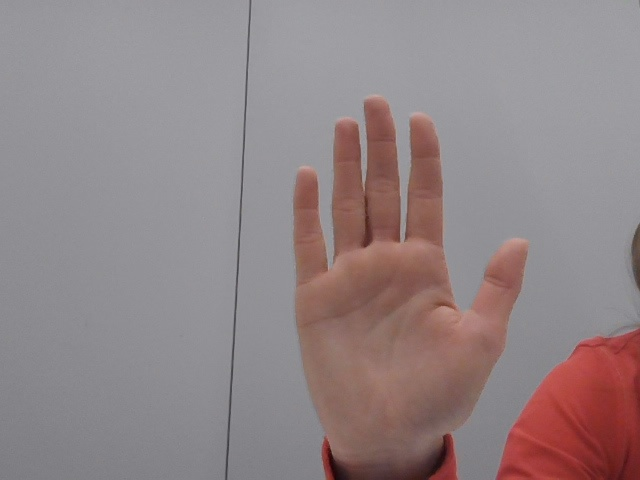nada: (257, 82, 538, 473)
